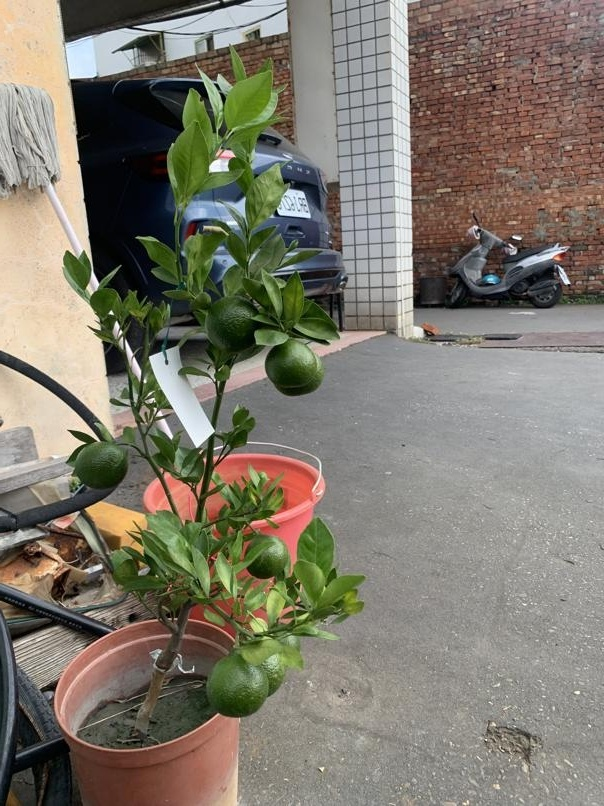Tangerine: (207, 655, 272, 720), (261, 333, 325, 395), (201, 295, 261, 360), (67, 439, 129, 493), (245, 535, 291, 578)
